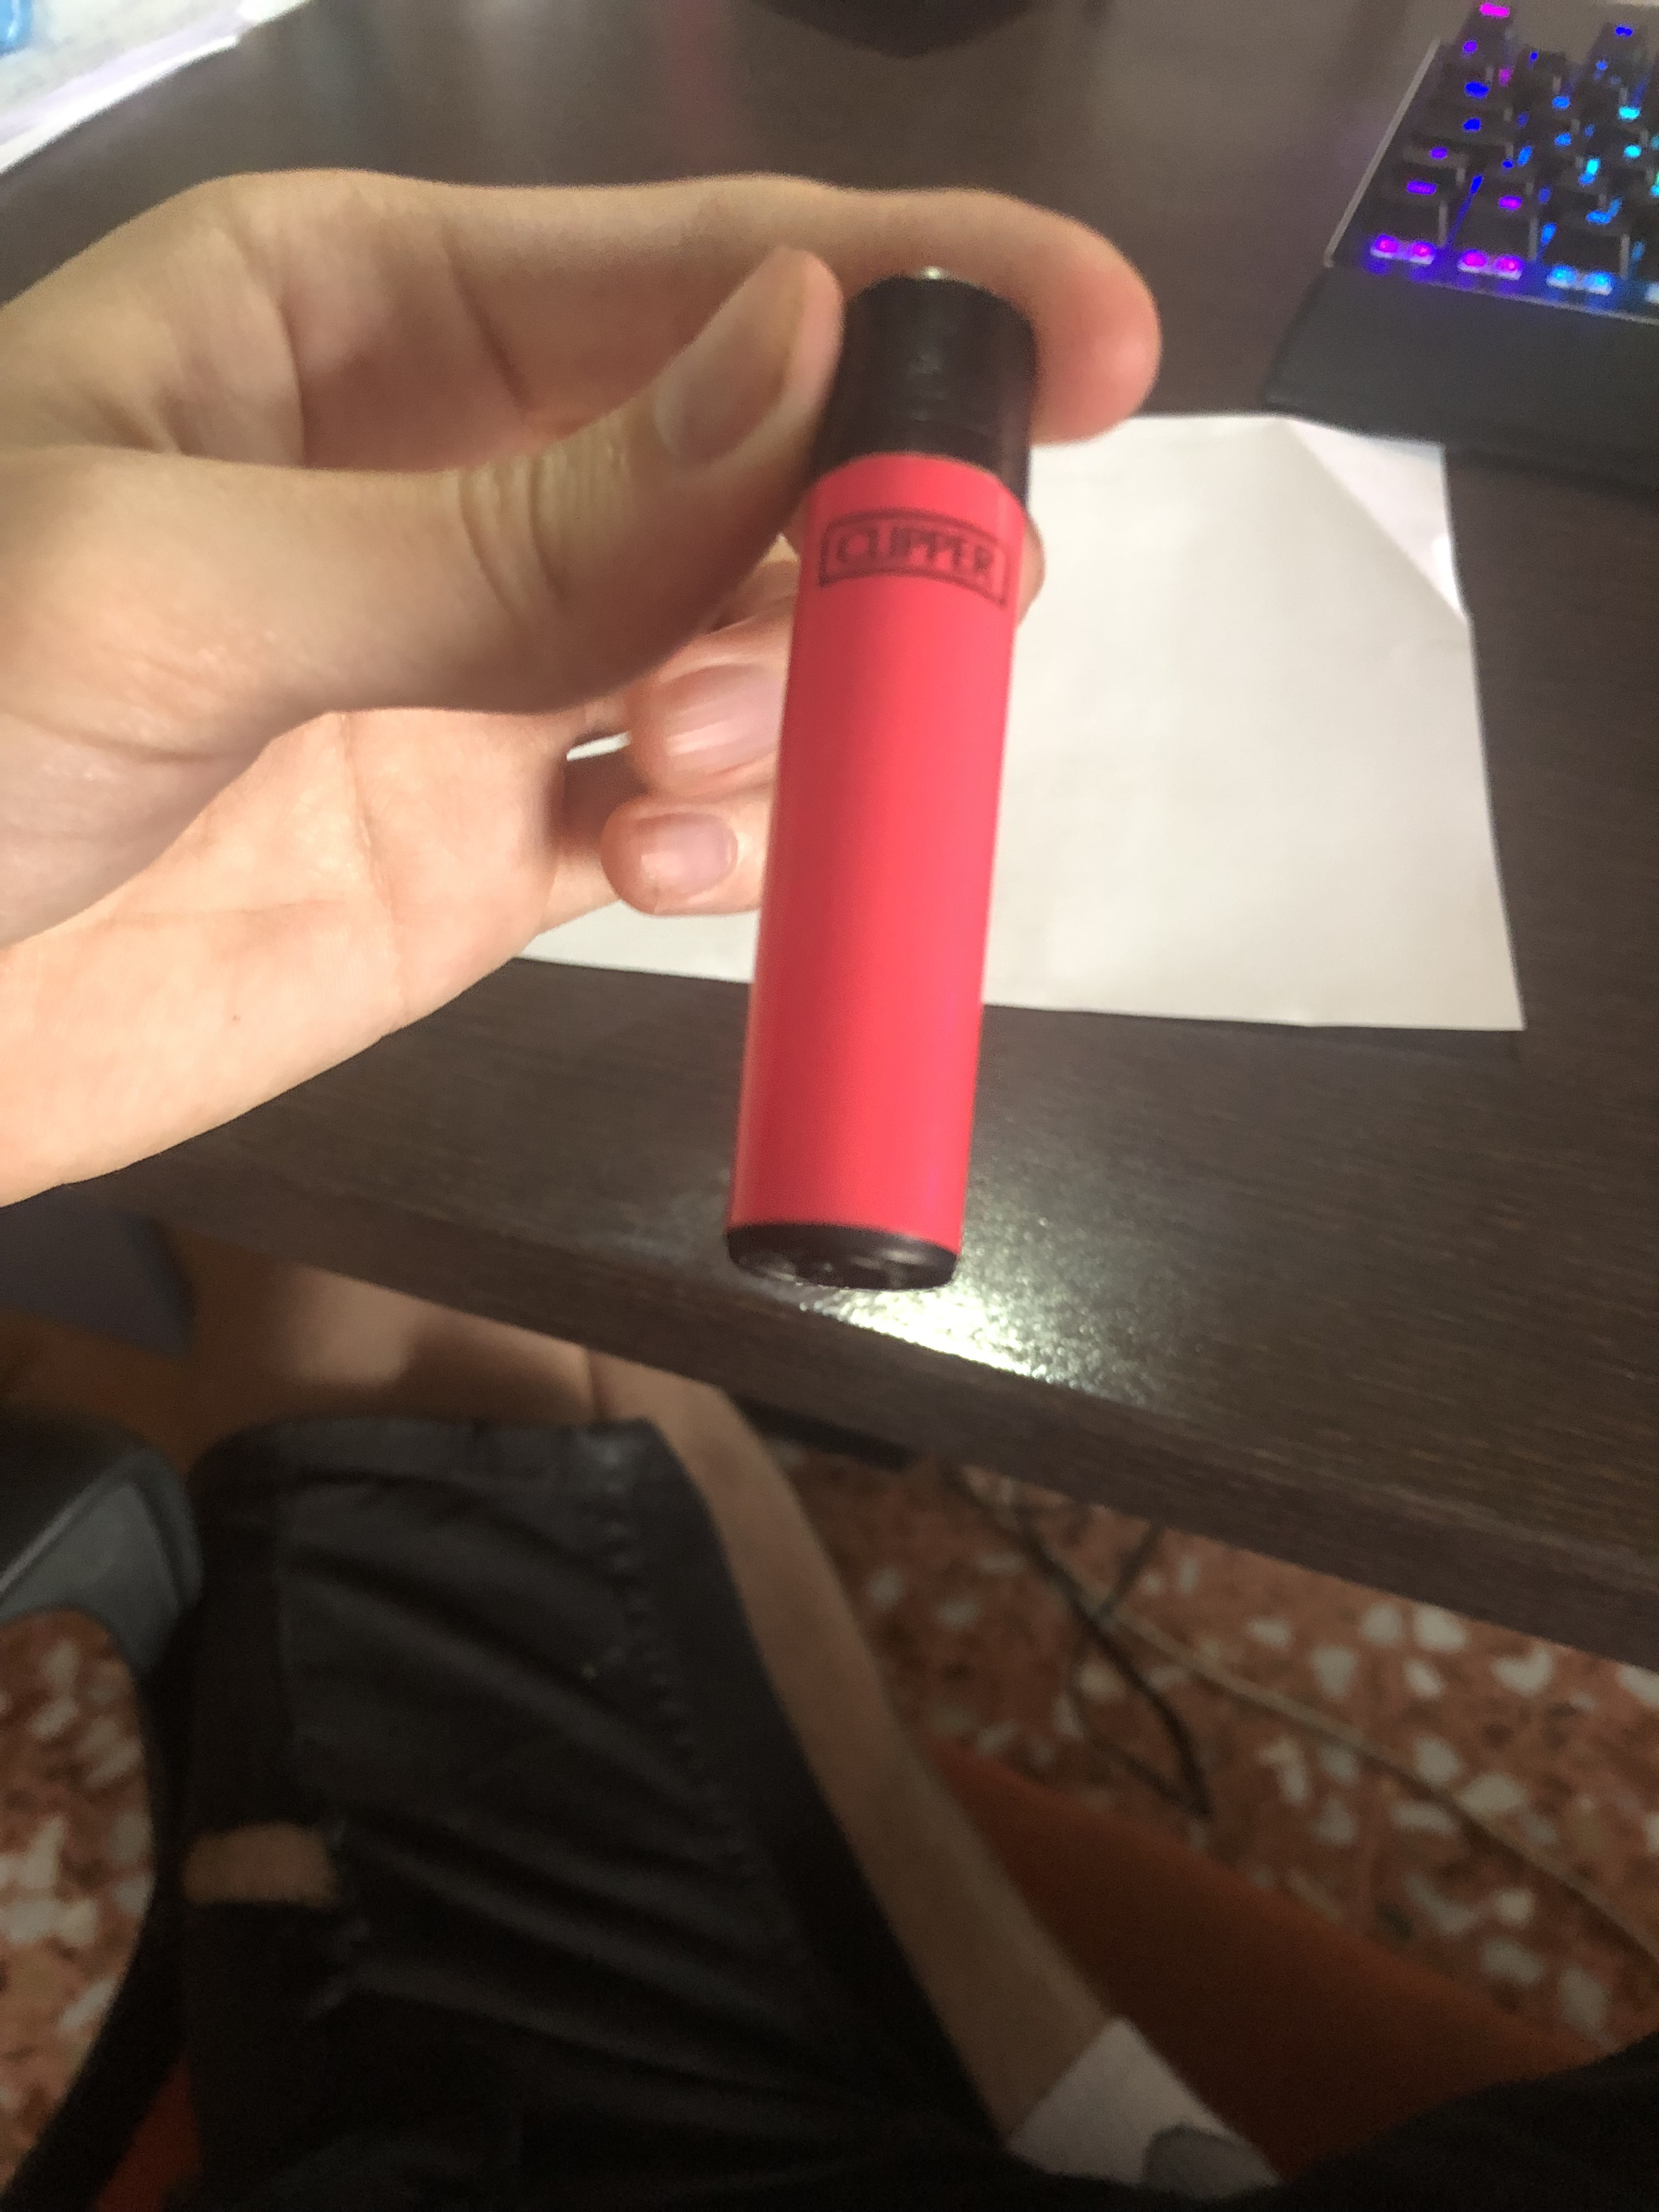Mechero: (714, 263, 1080, 1329)
